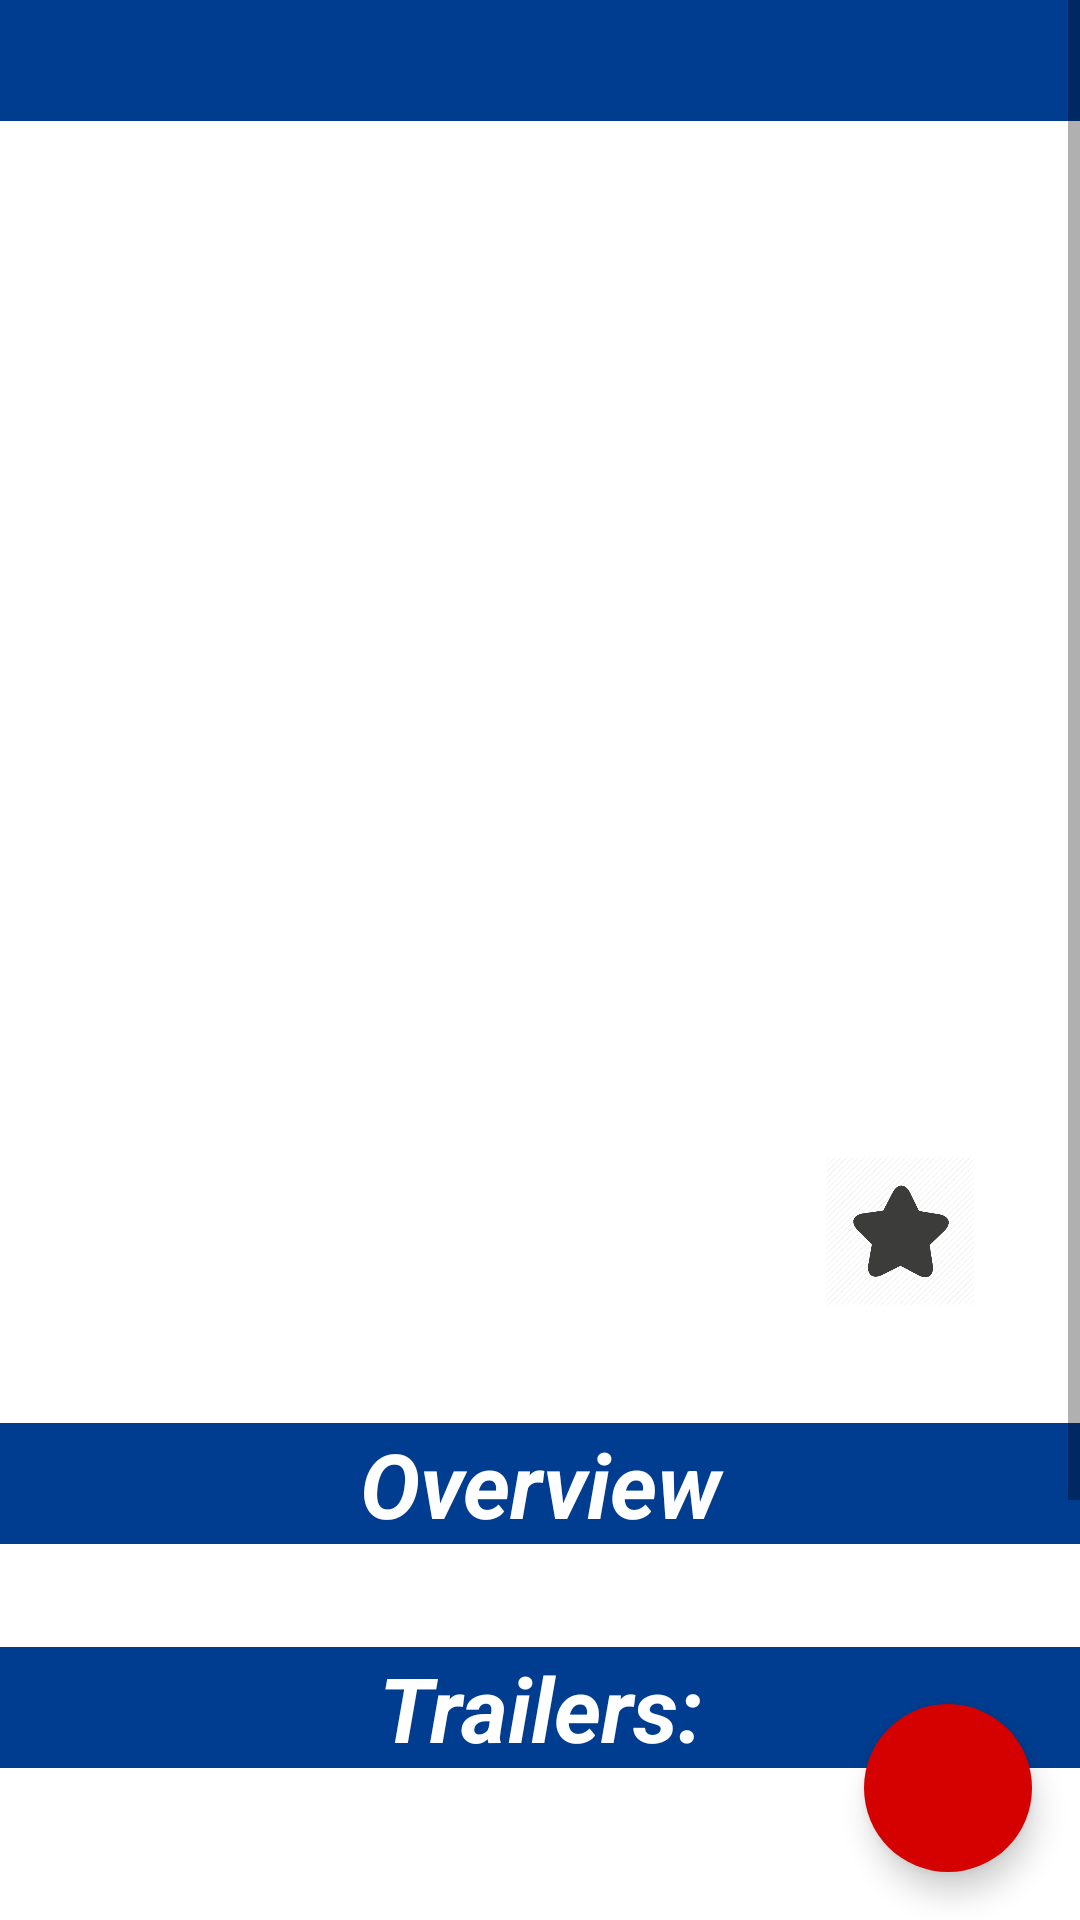

Screen size 1080×1920. Icon name, then its center in pixels as [x,y]:
Set As Favourite: [901,1231]
